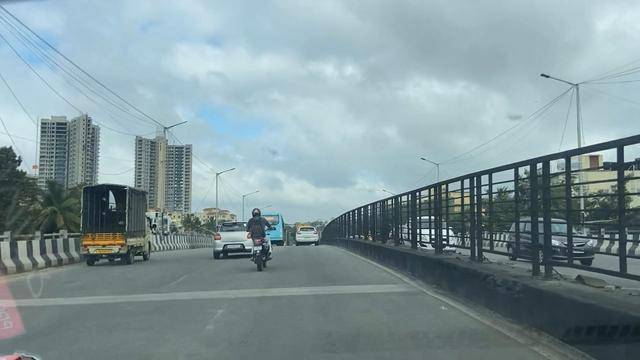HMV: (75, 178, 160, 271), (255, 201, 290, 252)
LMV: (209, 209, 262, 266), (237, 207, 280, 275), (295, 217, 327, 249)
